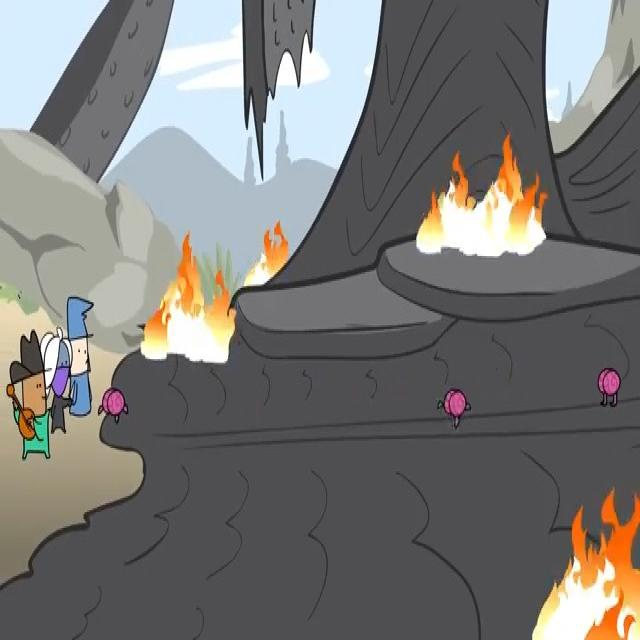Banjovi: (7, 330, 51, 460)
Josh: (66, 296, 94, 416)
miss Demeanor: (40, 326, 72, 434)
